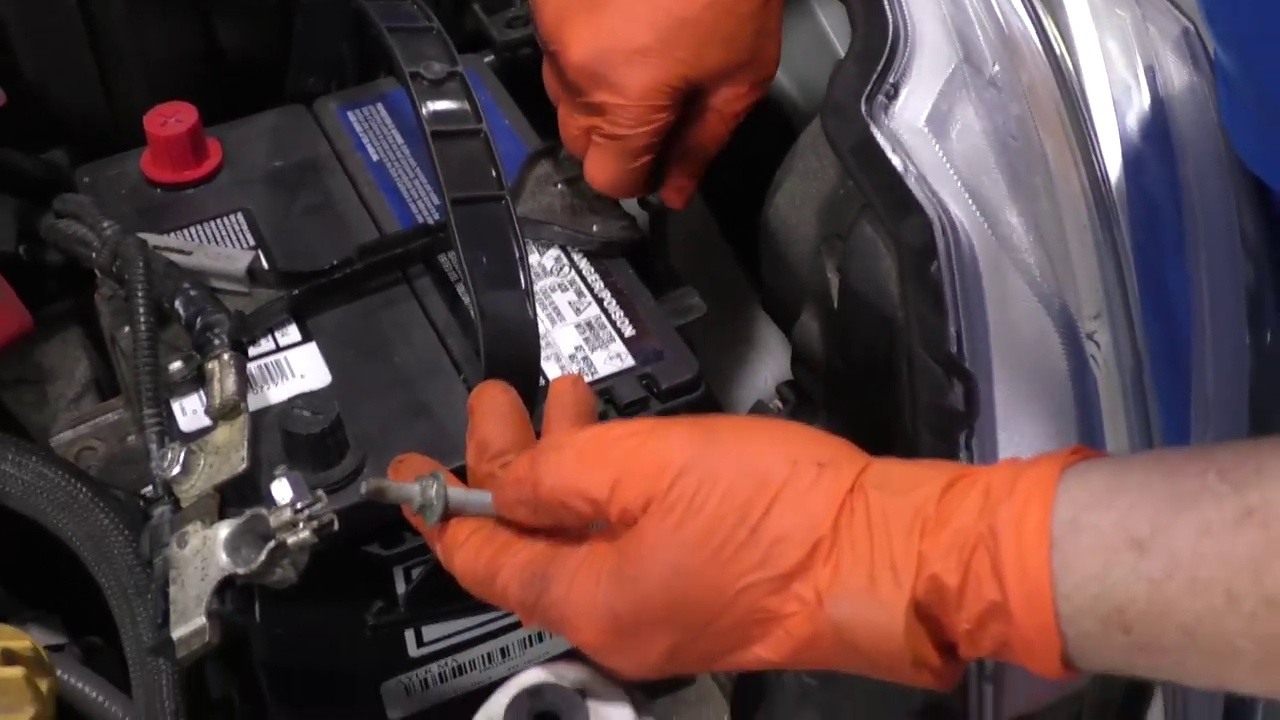battery: (58, 57, 711, 528)
pos_disconnected: (67, 84, 297, 214)
